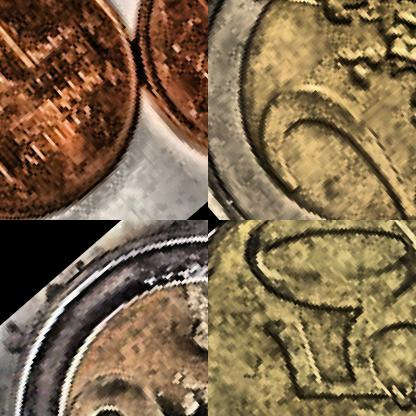coin: (208, 0, 415, 219), (0, 0, 198, 219), (0, 220, 207, 415), (208, 220, 415, 415)
